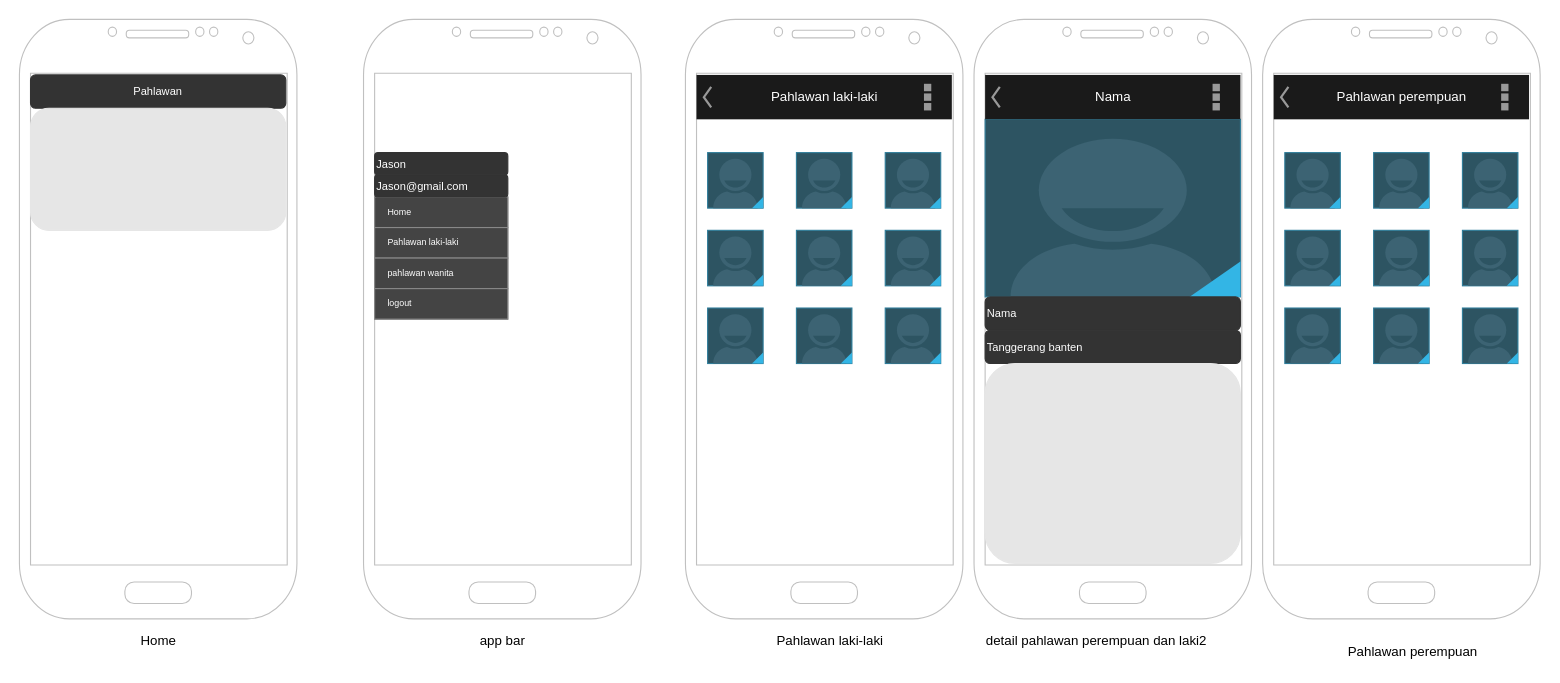
The diagram is 1560 pixels wide and 683 high, and some of its shapes have lost their labels. Here are the shapes that lost their labels. From the top down, the box of each, then its label:
(29, 107, 286, 230): Slamat datang, applikasi ini membahas tetang pahlawan-pahlawan indonesia
(984, 362, 1240, 563): deskripsi
